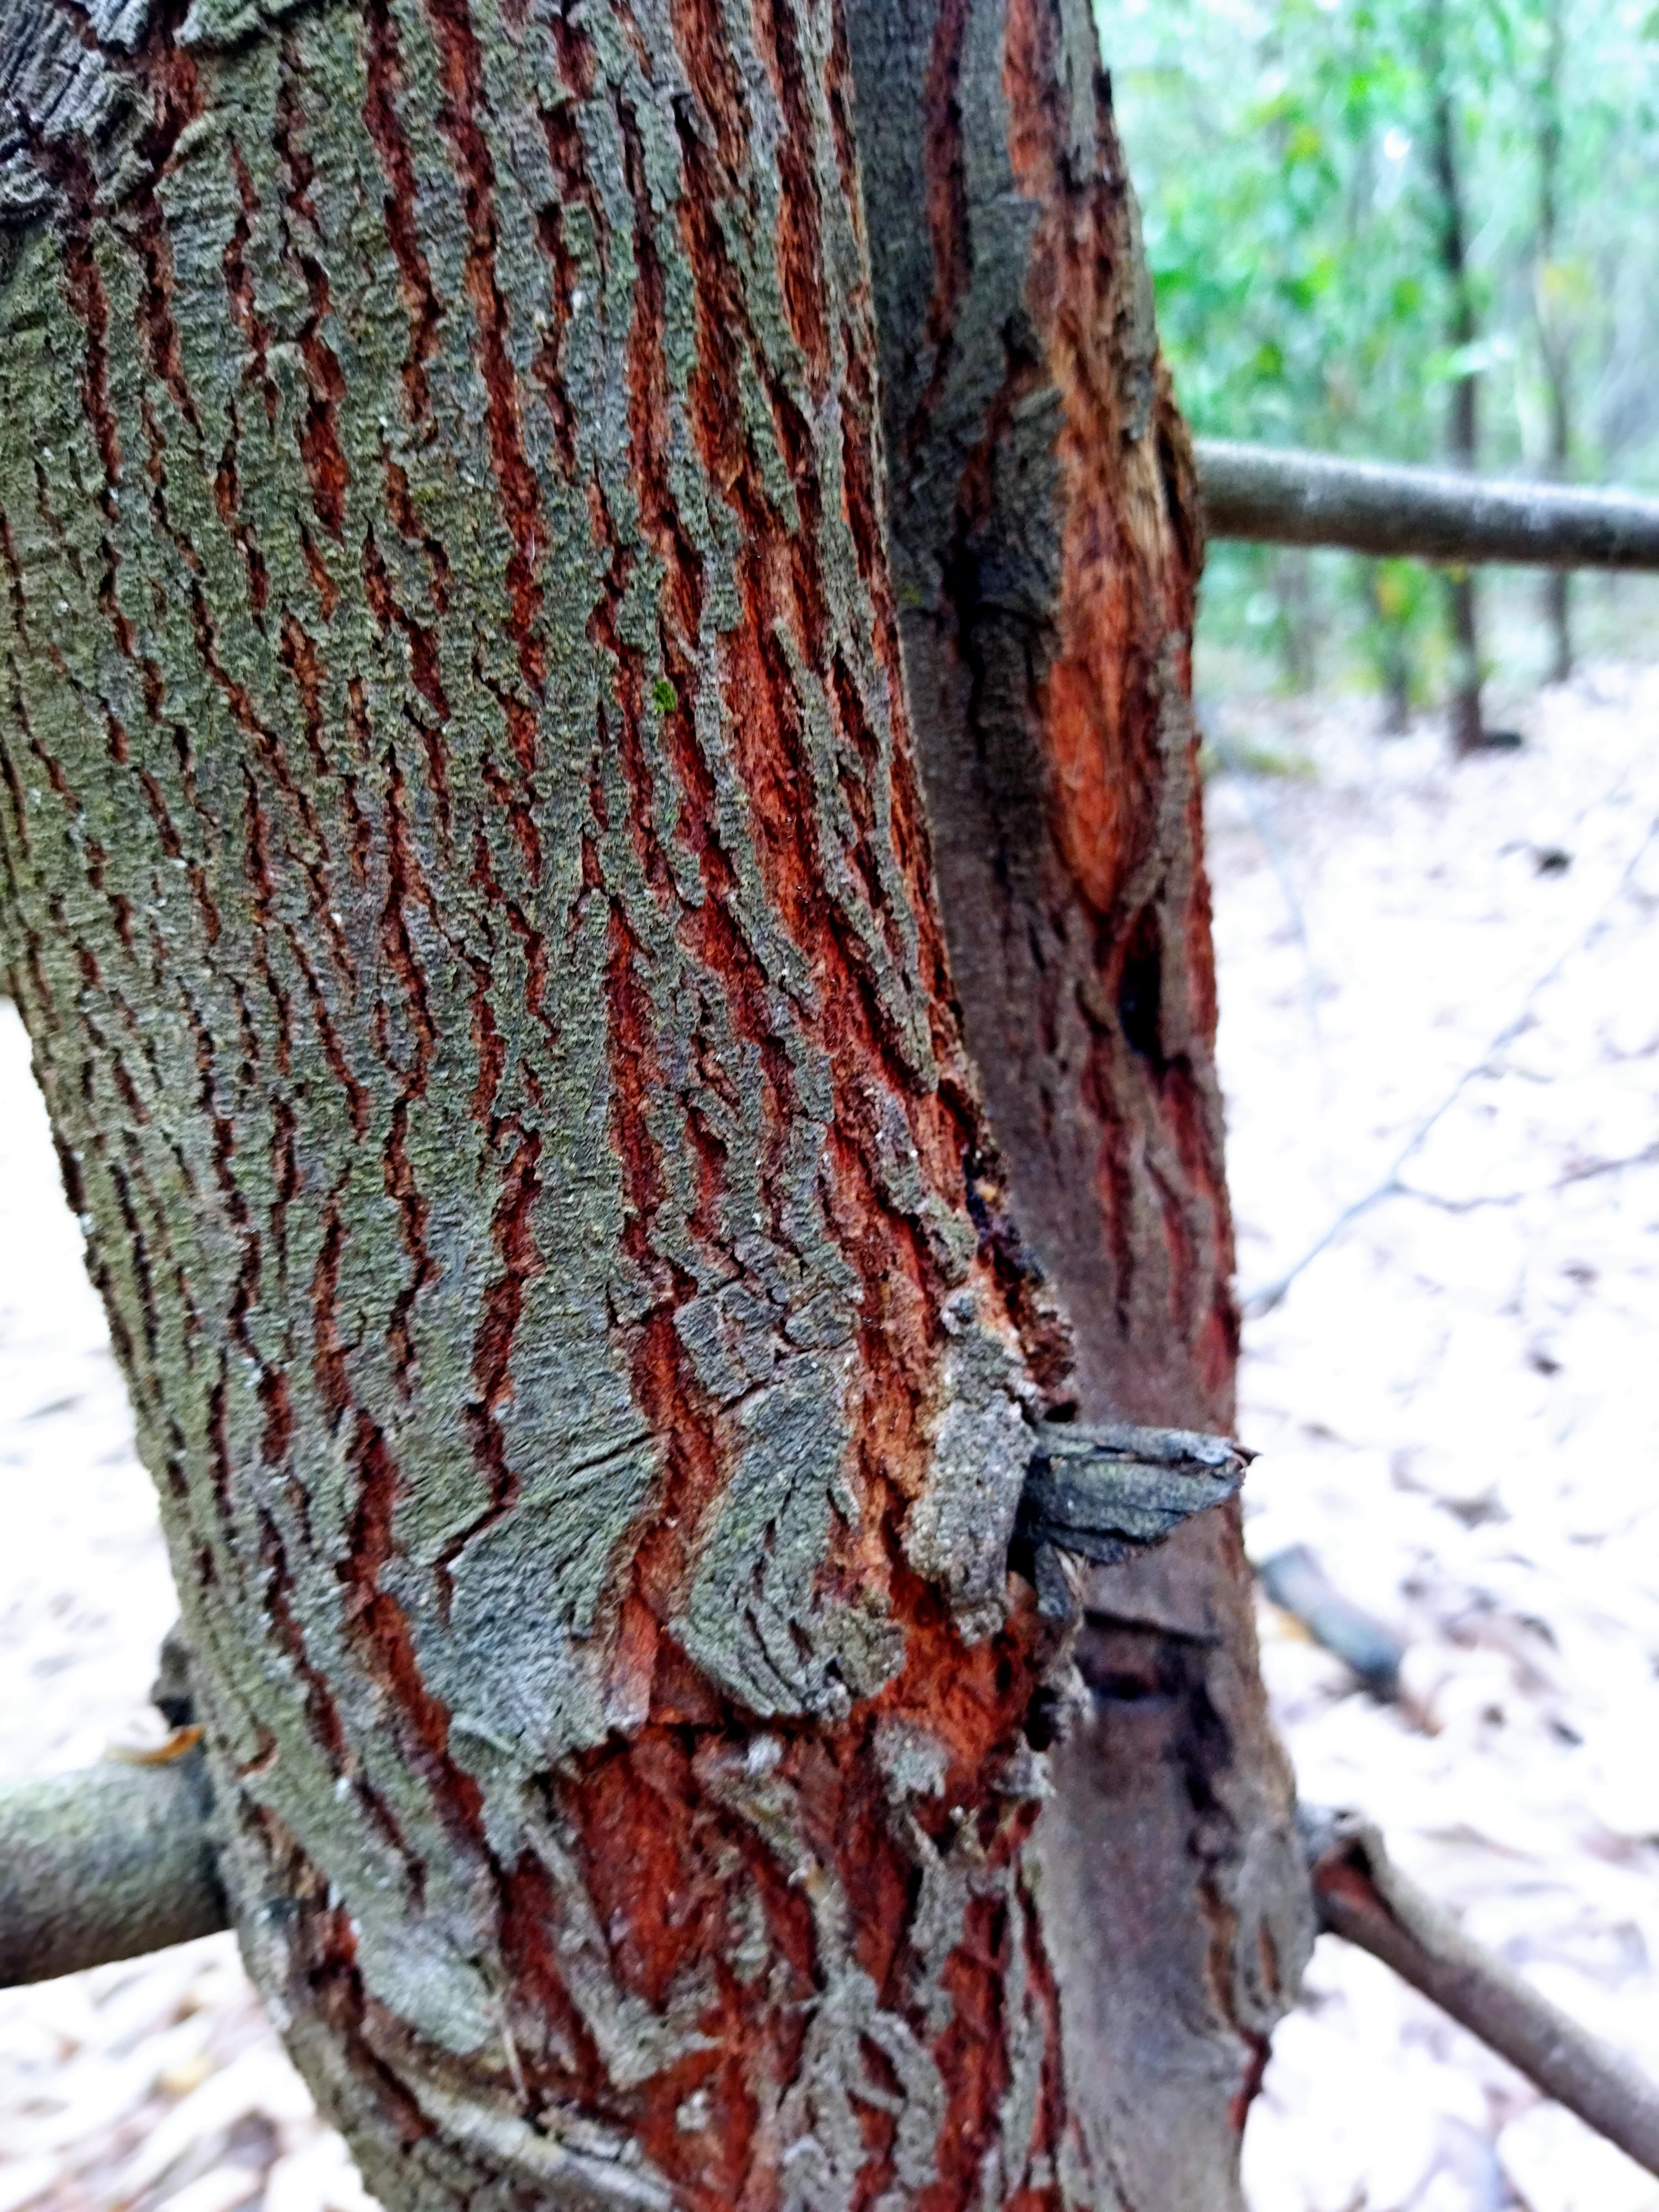Stem Deformation: (0, 256, 1213, 2212)
